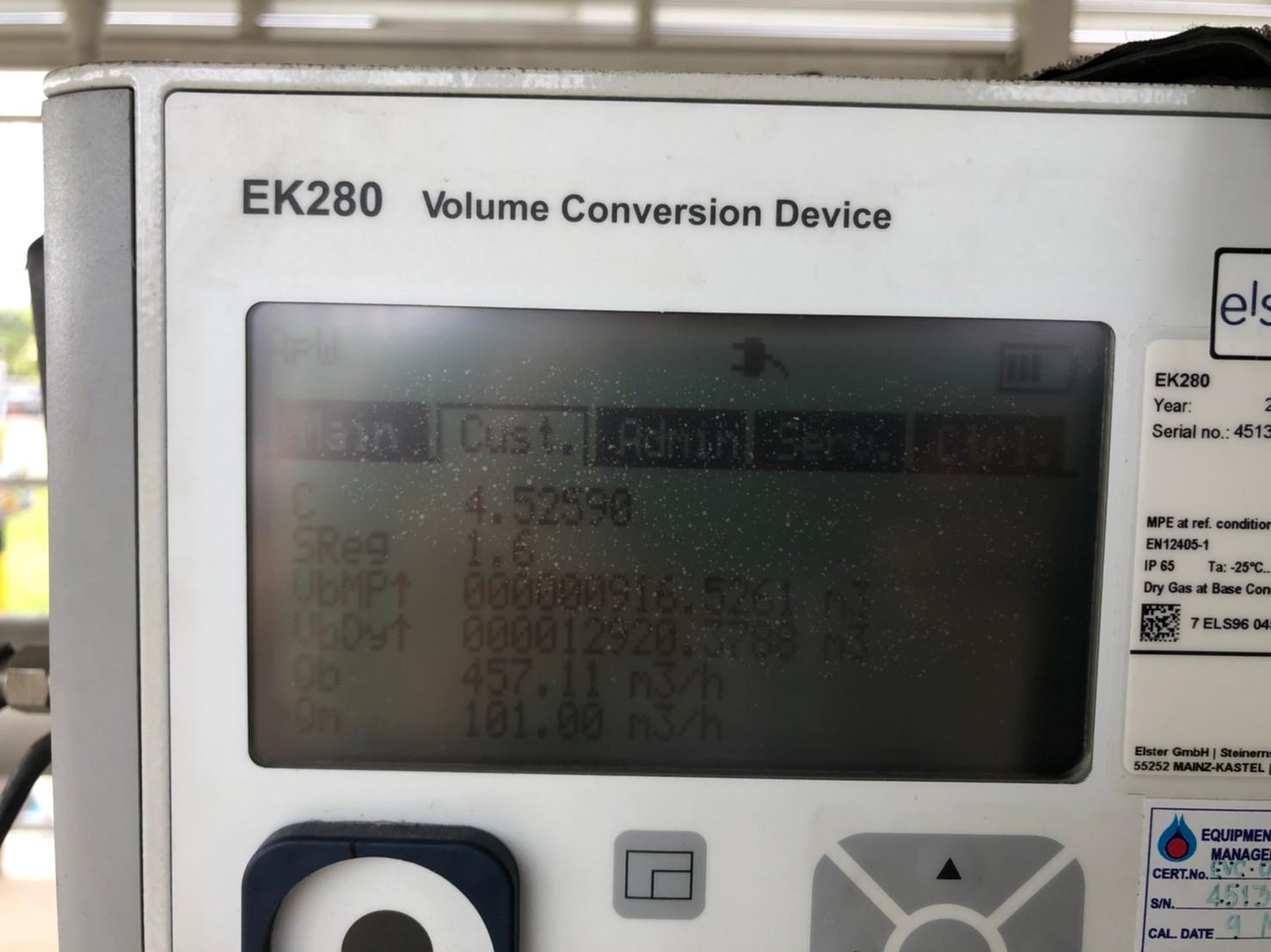digital_screen: (244, 308, 1110, 776)
